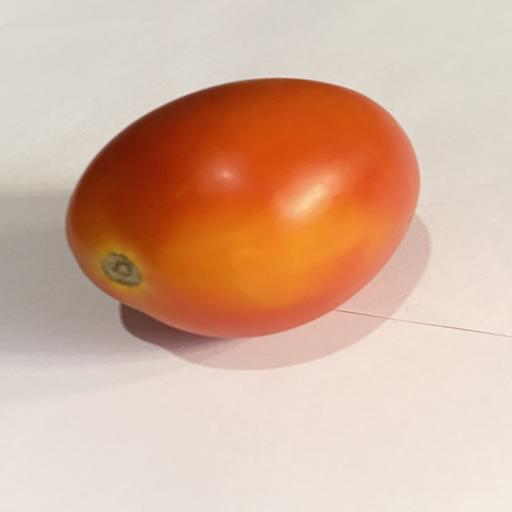ripe: (66, 78, 419, 337)
